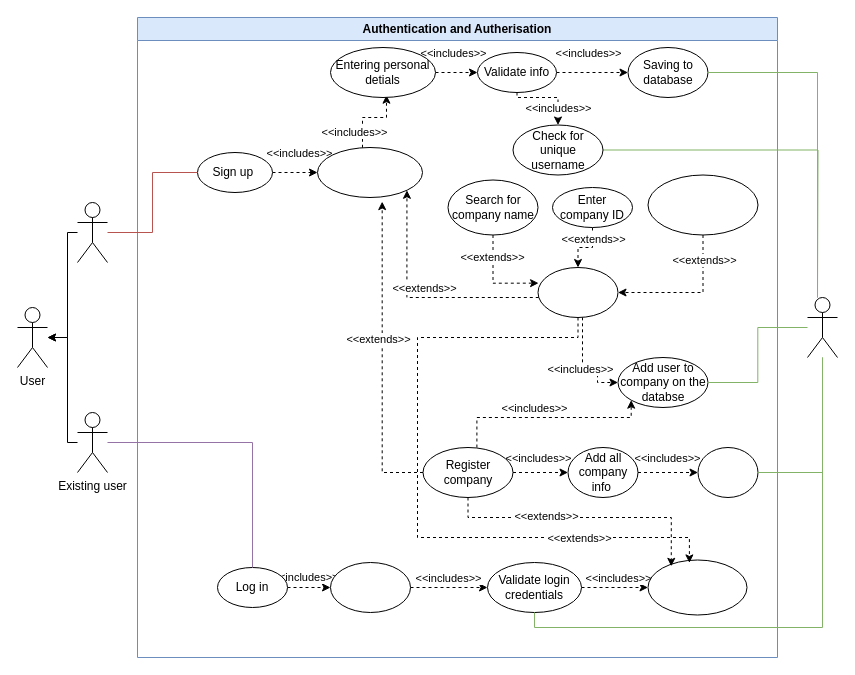
Image size: 855x675. Some labels were removed from this diagram. Here are the shapes that lost their labels. From the top down, the box of each, then its label:
(316, 146, 422, 198): Complete sign up flow
(647, 174, 758, 235): Follow dynamic link sent from company
(76, 202, 108, 262): New User
(537, 266, 618, 318): Join company
(806, 296, 838, 358): API
(697, 446, 758, 498): Save to database
(330, 562, 410, 612): Enter username and password
(647, 559, 747, 615): redirect to dashboard
